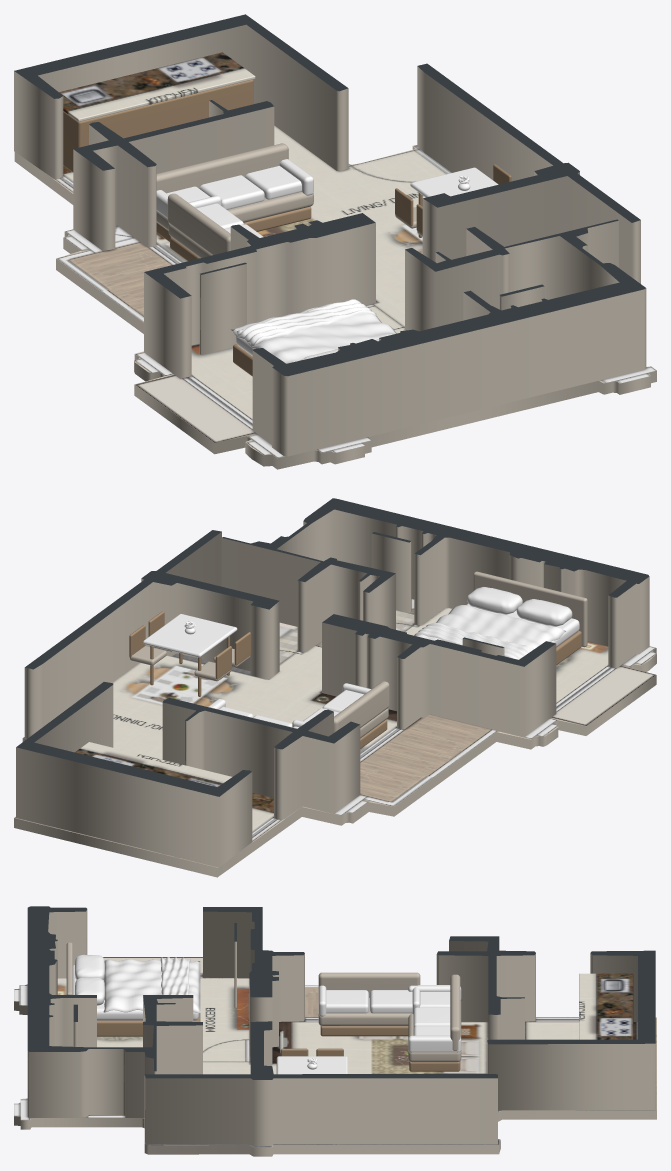
3 renders of one model, top to bottom at view 1: azimuth 30°, elevation 25°; view 2: azimuth 150°, elevation 25°; view 3: azimuth 270°, elevation 25°, orthographic. The views are drawn at different scales.
Parts seen in each view (by area): view 1: Partition walls, Apartment floor, Stone worktop, Kitchen cabinets, Draped bed linen, Sofa back, Draped bed linen.001, Sofa back.001, Upholstered sofa frame, Marble dining top, Seat cushion.001, Seat cushion.002 (+1 smaller); view 2: Partition walls, Apartment floor, Draped bed linen, Marble dining top, Stone worktop, Upholstered headboard, Sofa back.001, Draped bed linen.001, Tailored pillow, Tailored pillow.001; view 3: Partition walls, Apartment floor, Stone worktop, Draped bed linen, Sofa back.001, Upholstered sofa frame.001, Marble dining top, Draped bed linen.001, Seat cushion.003, Seat cushion.004, Sofa plinth.001, Padded armrest.001 (+10 smaller).
Part boxes in pixels (x1,y1,x2,y2): Partition walls: [14, 14, 646, 456]; Apartment floor: [14, 125, 656, 469]; Stone worktop: [59, 52, 255, 121]; Kitchen cabinets: [63, 79, 253, 172]; Draped bed linen: [231, 300, 396, 363]; Sofa back: [156, 143, 288, 193]; Draped bed linen.001: [236, 299, 377, 346]; Sofa back.001: [167, 193, 230, 255]; Upholstered sofa frame: [156, 192, 313, 230]; Marble dining top: [410, 167, 498, 197]; Seat cushion.001: [199, 175, 264, 209]; Seat cushion.002: [245, 166, 301, 199]; Partition walls: [16, 498, 649, 867]; Apartment floor: [14, 599, 656, 877]; Draped bed linen: [416, 605, 565, 654]; Marble dining top: [143, 614, 237, 657]; Stone worktop: [75, 742, 231, 787]; Upholstered headboard: [473, 571, 587, 647]; Sofa back.001: [334, 681, 389, 732]; Draped bed linen.001: [414, 623, 533, 659]; Tailored pillow: [516, 599, 572, 626]; Tailored pillow.001: [467, 587, 522, 614]; Partition walls: [27, 906, 655, 1145]; Apartment floor: [14, 957, 656, 1156]; Stone worktop: [579, 973, 633, 1039]; Draped bed linen: [103, 959, 200, 1013]; Sofa back.001: [318, 972, 420, 997]; Upholstered sofa frame.001: [318, 997, 411, 1026]; Marble dining top: [276, 1056, 347, 1074]; Draped bed linen.001: [160, 957, 190, 994]; Seat cushion.003: [326, 990, 368, 1013]; Seat cushion.004: [370, 990, 412, 1013]; Sofa plinth.001: [320, 1026, 408, 1036]; Padded armrest.001: [408, 1035, 461, 1052].
Size of the model in its own units: 7.03 by 1.3 by 10.05.
Materials: 9 (1 with a texture image).
